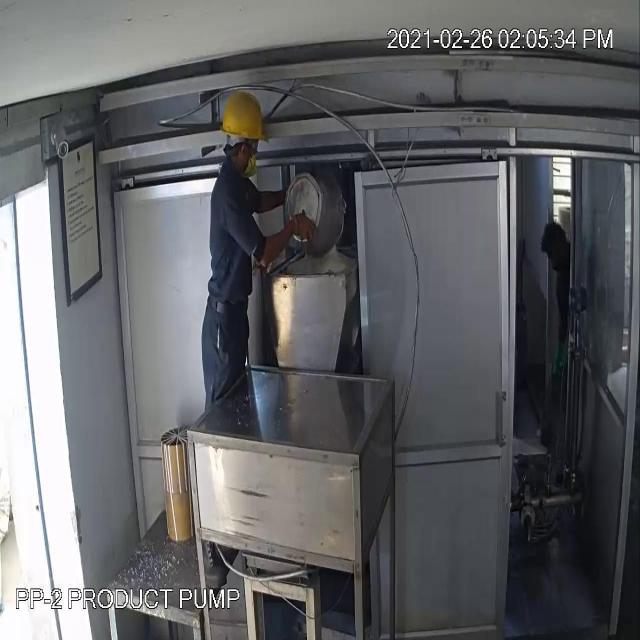hat: (220, 82, 278, 151)
